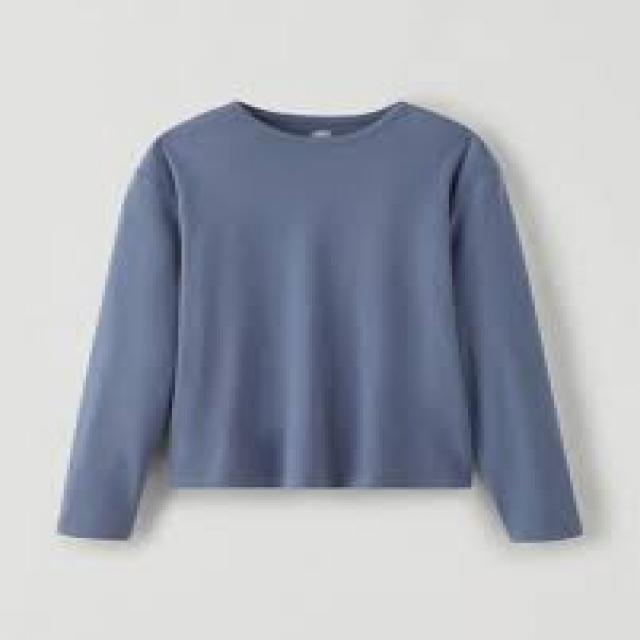plain: (49, 96, 585, 549)
